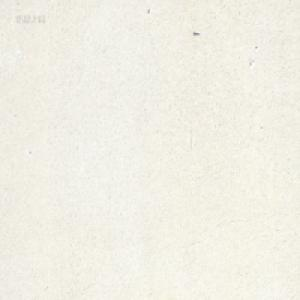Nail: (193, 30, 199, 35)
